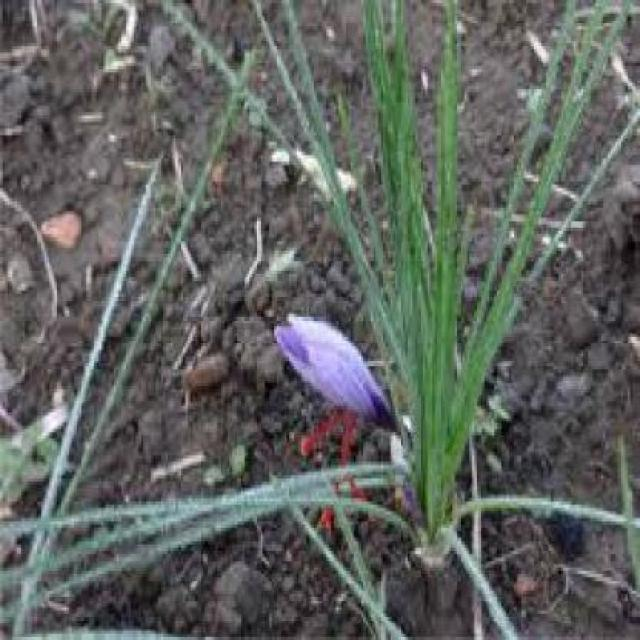saffron closed: (275, 315, 395, 428)
